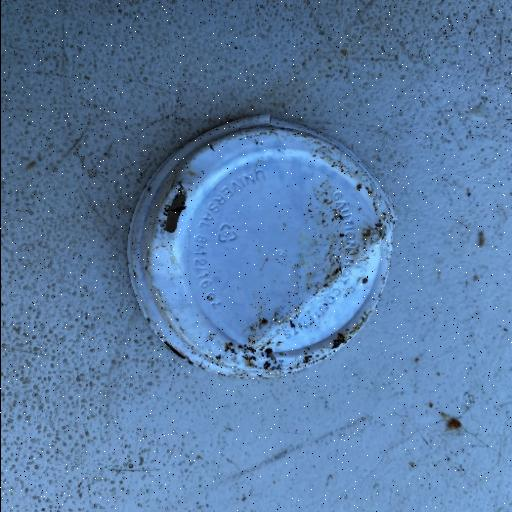Plastic: (124, 111, 398, 381)
